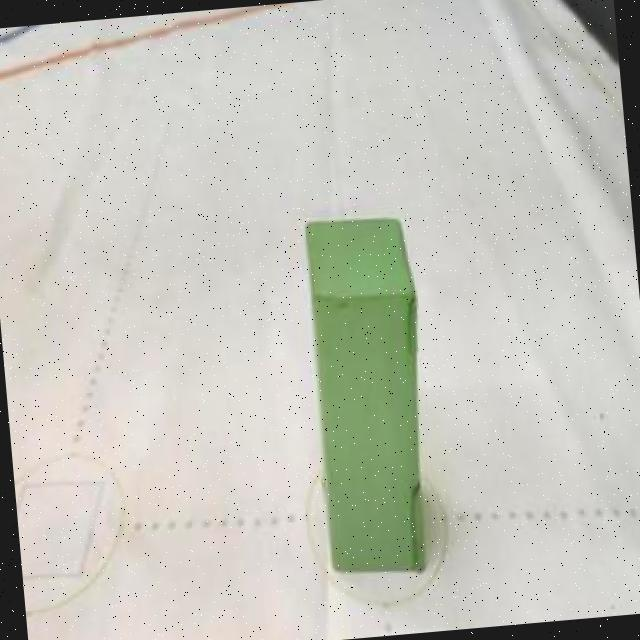greenbox: (296, 208, 441, 580)
